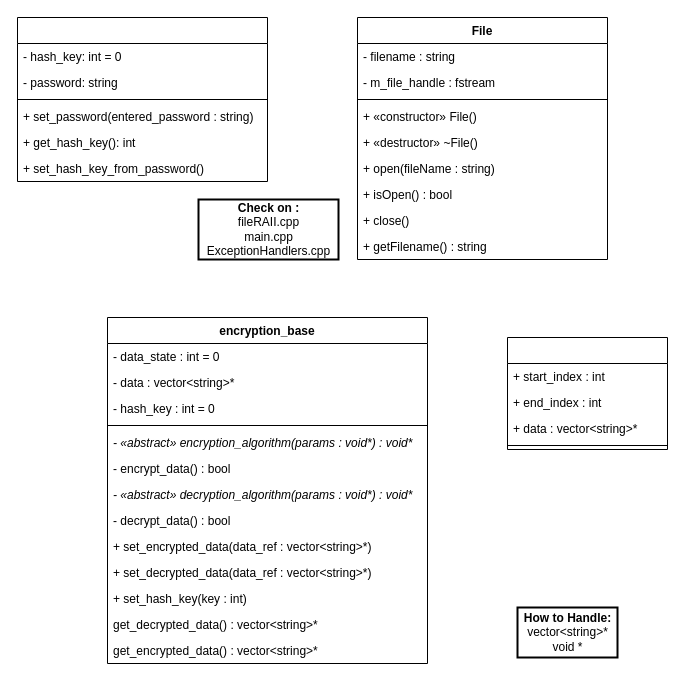
Some shapes in this 685 by 684 pixel diagram are drawn without their labels. Each missing label, with the box of its shape:
alg_prms: (506, 336, 668, 450)
Hashing: (16, 16, 268, 182)
